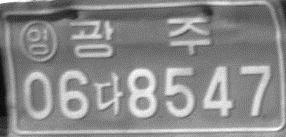0: (22, 70, 54, 120)
4: (202, 65, 234, 116)
5: (163, 66, 196, 119)
6: (57, 69, 90, 120)
7: (238, 65, 272, 117)
8: (126, 67, 158, 119)
광주_D: (67, 17, 211, 57)
다: (93, 72, 123, 117)
영: (18, 18, 59, 62)
